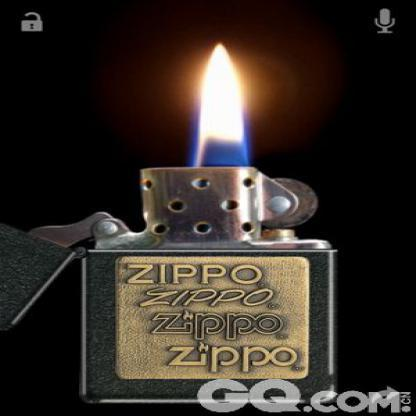fire: (197, 37, 243, 147)
